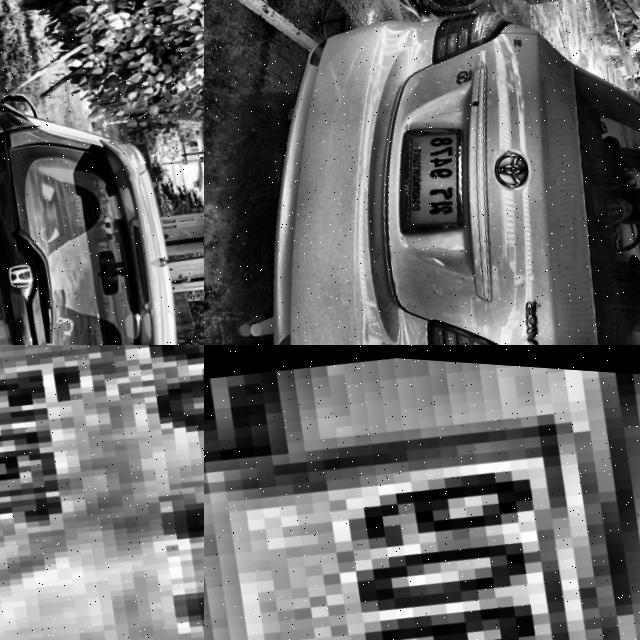license-plate: (204, 345, 640, 640), (0, 345, 204, 640), (385, 111, 483, 235), (0, 226, 16, 325)
